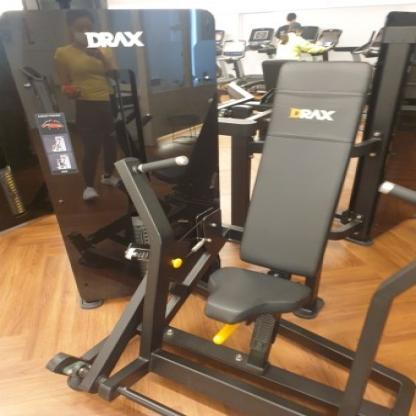Chest Press machine: (0, 5, 415, 416)
